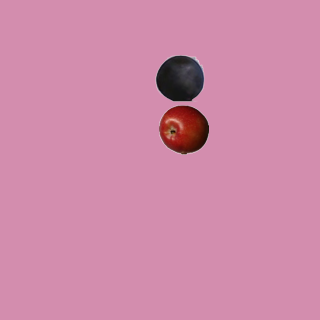Apple Braeburn: (158, 104, 208, 154)
Grape Blue: (154, 52, 204, 102)
